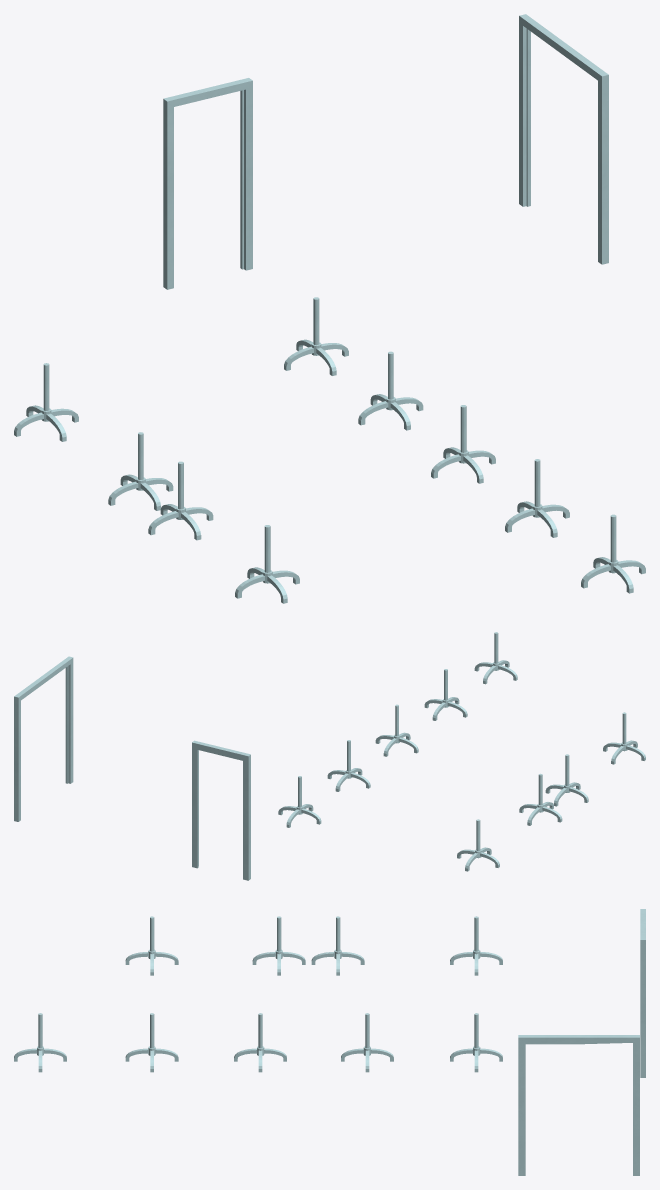
Rendered from resto_ni_teo_13.obj.
3 views of the same model, one above another, from view 1: azimuth 30°, elevation 25°; view 2: azimuth 150°, elevation 25°; view 3: azimuth 270°, elevation 25° (orthographic). The views are drawn at different scales.
Bounding box in the file's own units: 10.37 × 3 × 12.43.
